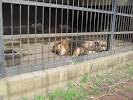lion: (51, 38, 113, 58)
